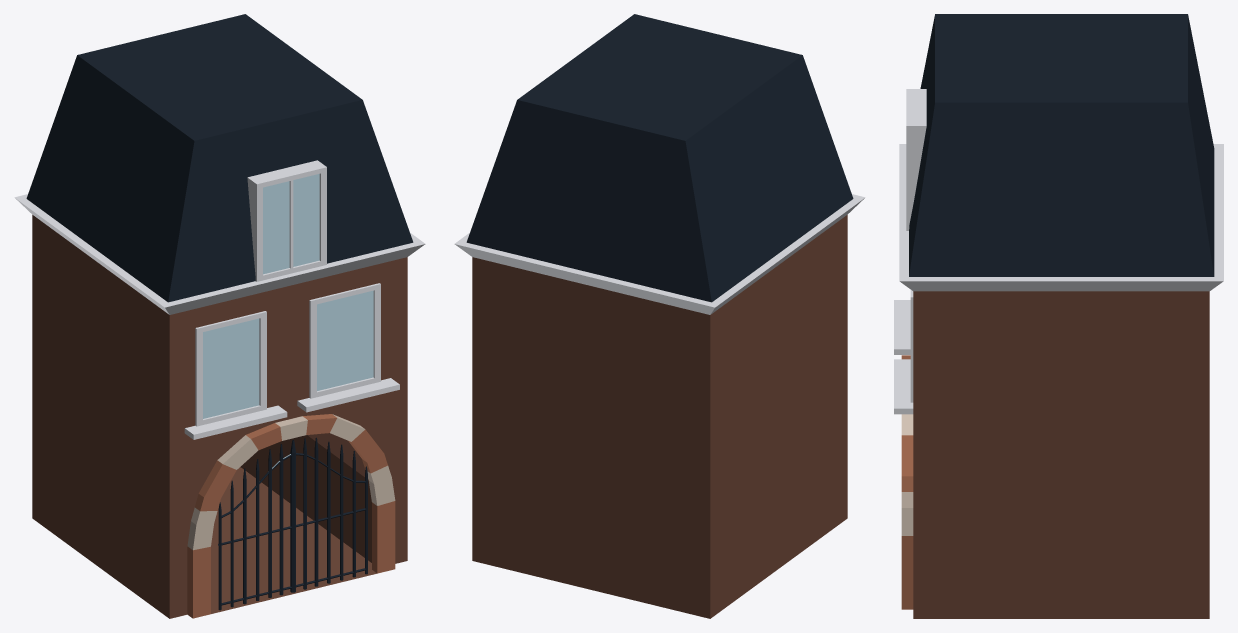
The model's file is House4Level1.fbx.
The picture shows the model from 3 angles, left to right: view 1: azimuth 30°, elevation 25°; view 2: azimuth 150°, elevation 25°; view 3: azimuth 270°, elevation 25°; orthographic projection. The views are drawn at different scales.
Visible parts, largest first — view 1: House4Lvl1.001; view 2: House4Lvl1.001; view 3: House4Lvl1.001.
Boxes of the visible parts, x1,y1,x2,y2 form: House4Lvl1.001: [14, 14, 425, 618]; House4Lvl1.001: [454, 14, 865, 618]; House4Lvl1.001: [894, 14, 1223, 618].
Bounding box in the file's own units: 76.54 × 130 × 77.75.
